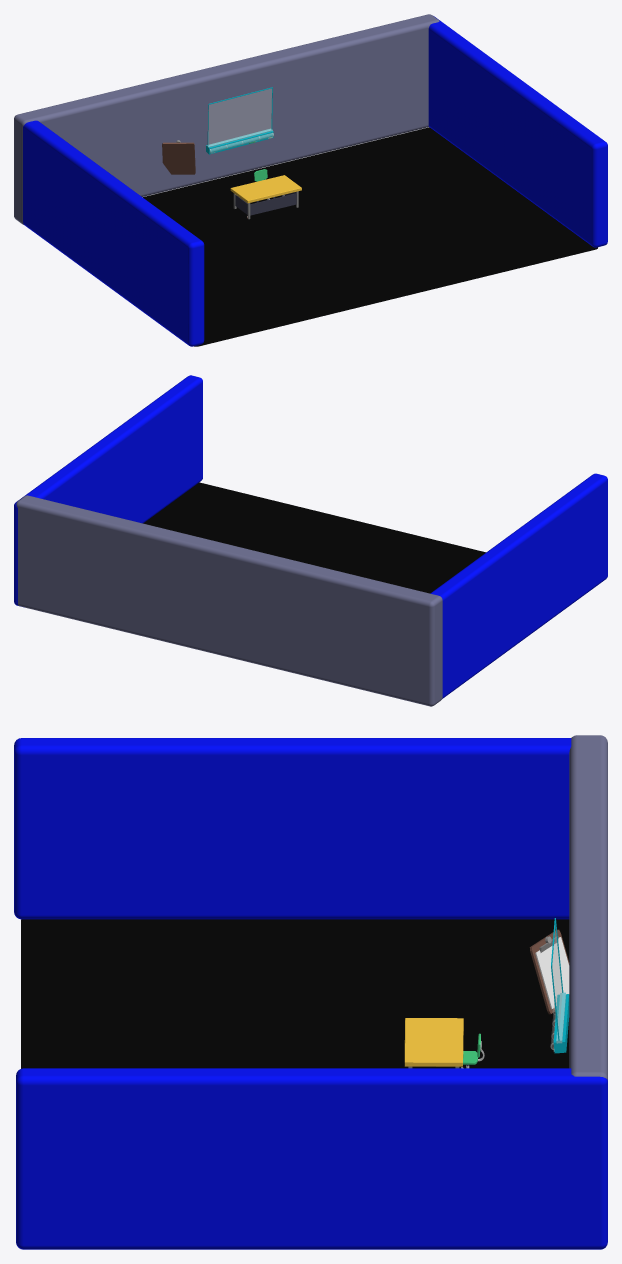
The model's file is OnlyClassroom.glb.
3 views of the same model, one above another, from view 1: azimuth 30°, elevation 25°; view 2: azimuth 150°, elevation 25°; view 3: azimuth 270°, elevation 25° (orthographic). The views are drawn at different scales.
Visible parts, largest first — view 1: SquarePlane, Box 2, Box 1, Box, Buffer Layer (×3), Board, Boards; view 2: Box 2, Box 1, SquarePlane, Box; view 3: Box, Box 1, SquarePlane, Box 2, Board, Buffer Layer (×2).
Part boxes in pixels (x1=…): SquarePlane: x1=143, y1=127, x2=597, y2=346; Box 2: x1=14, y1=14, x2=439, y2=224; Box 1: x1=23, y1=120, x2=204, y2=346; Box: x1=428, y1=16, x2=607, y2=247; Buffer Layer (×3): x1=162, y1=87, x2=273, y2=174; Board: x1=230, y1=175, x2=301, y2=203; Boards: x1=235, y1=192, x2=296, y2=215; Box 2: x1=16, y1=495, x2=442, y2=706; Box 1: x1=430, y1=473, x2=607, y2=698; SquarePlane: x1=143, y1=482, x2=485, y2=593; Box: x1=14, y1=375, x2=202, y2=607; Box: x1=16, y1=1068, x2=607, y2=1249; Box 1: x1=14, y1=738, x2=571, y2=919; SquarePlane: x1=21, y1=919, x2=569, y2=1068; Box 2: x1=569, y1=735, x2=607, y2=1080; Board: x1=404, y1=1018, x2=463, y2=1066; Buffer Layer (×2): x1=535, y1=918, x2=569, y2=1053.
Bounding box in the file's own units: 4.7 × 1.14 × 3.44.
